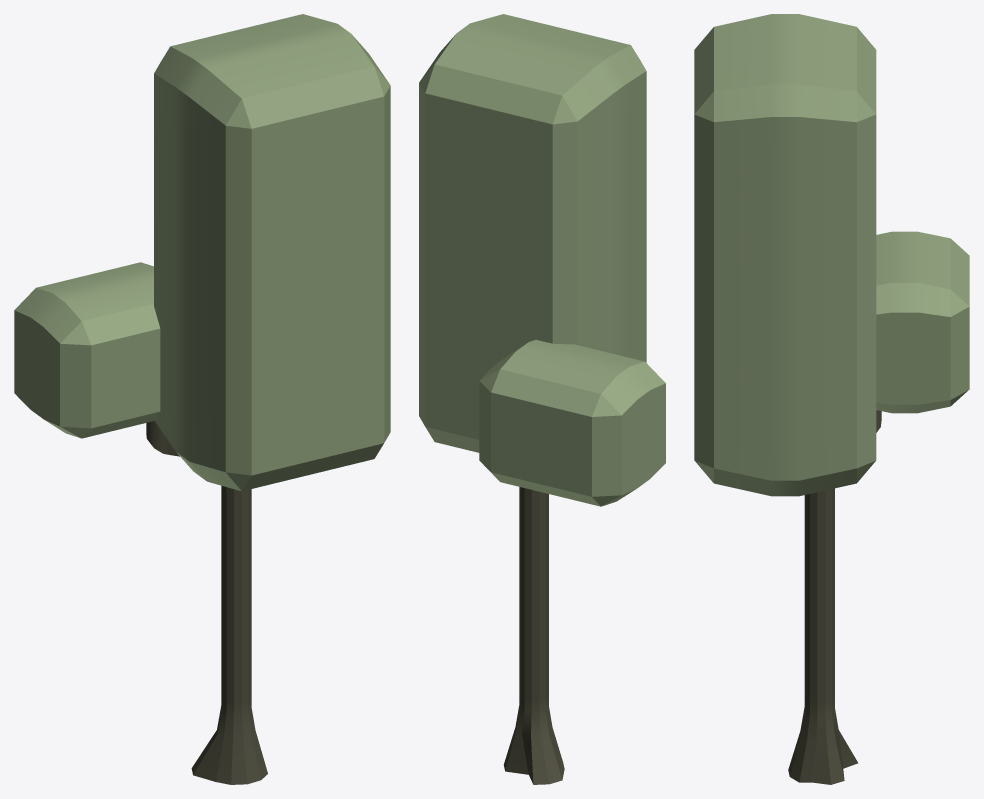
File: HighTree3Dark.fbx
3 views of the same model, side by side, from view 1: azimuth 30°, elevation 25°; view 2: azimuth 150°, elevation 25°; view 3: azimuth 270°, elevation 25° (orthographic). The views are drawn at different scales.
Visible parts, largest first — view 1: Crown_Big, Crown_Sml, Bark; view 2: Crown_Big, Crown_Sml, Bark; view 3: Crown_Big, Crown_Sml, Bark.
Part boxes in pixels (x1,y1,x2,y2): Crown_Big: (154,14,390,491); Crown_Sml: (14,262,160,438); Bark: (146,421,267,784); Crown_Big: (419,14,646,452); Crown_Sml: (479,339,665,506); Bark: (503,487,564,784); Crown_Big: (694,14,876,496); Crown_Sml: (876,231,969,413); Bark: (788,410,881,784).
Size of the model in its own units: 2.65 by 7.01 by 2.39.
